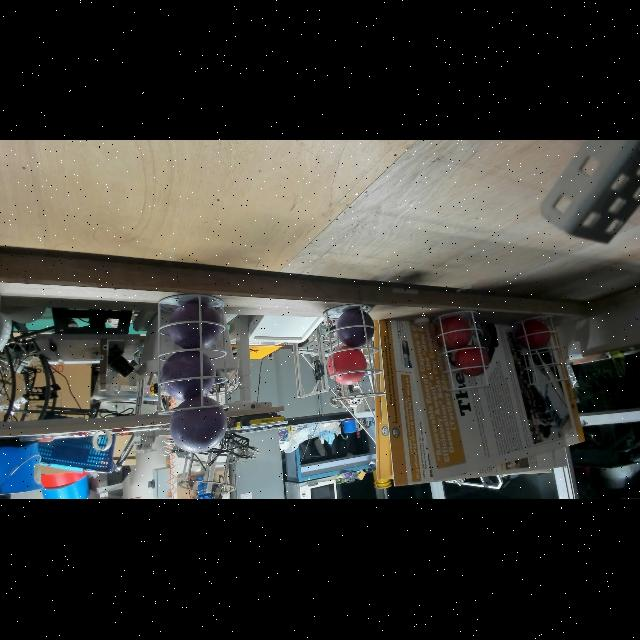P: (168, 396, 228, 454), (160, 350, 217, 402), (168, 301, 222, 351), (335, 310, 375, 348)
R: (327, 346, 368, 386), (435, 318, 473, 350), (455, 346, 491, 378), (516, 321, 552, 352)
S: (156, 294, 230, 416), (321, 304, 387, 402), (431, 310, 495, 394), (512, 314, 572, 388)
